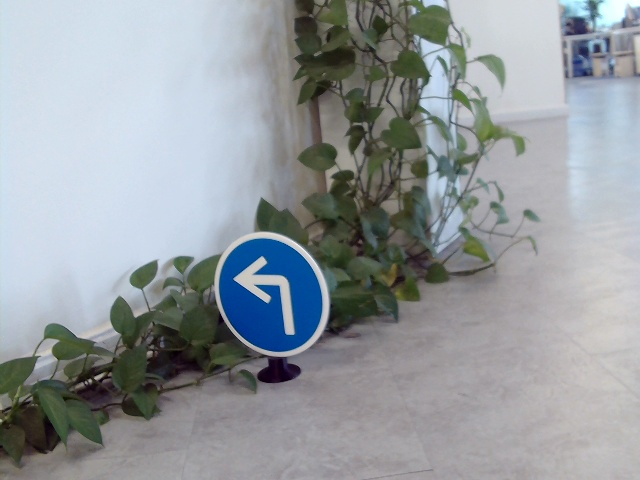turn_left: (233, 252, 300, 336)
